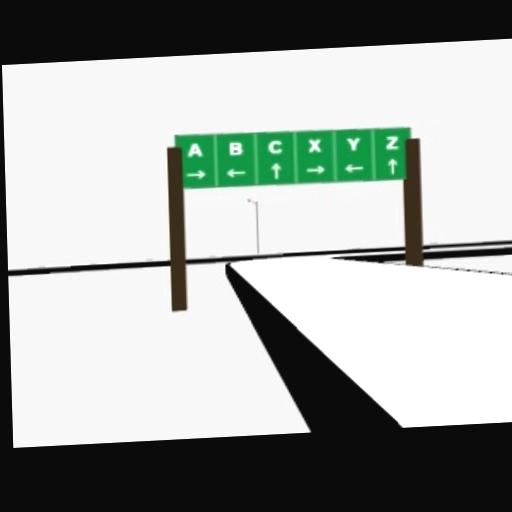A: (186, 141, 203, 156)
B: (229, 140, 243, 154)
C: (268, 139, 282, 153)
Left: (224, 165, 247, 177), (344, 161, 363, 172)
Right: (184, 168, 205, 179), (305, 163, 324, 174)
Straight: (270, 161, 281, 177), (386, 157, 397, 173)
X: (307, 137, 320, 151)
Y: (347, 135, 361, 149)
Z: (384, 134, 397, 148)
